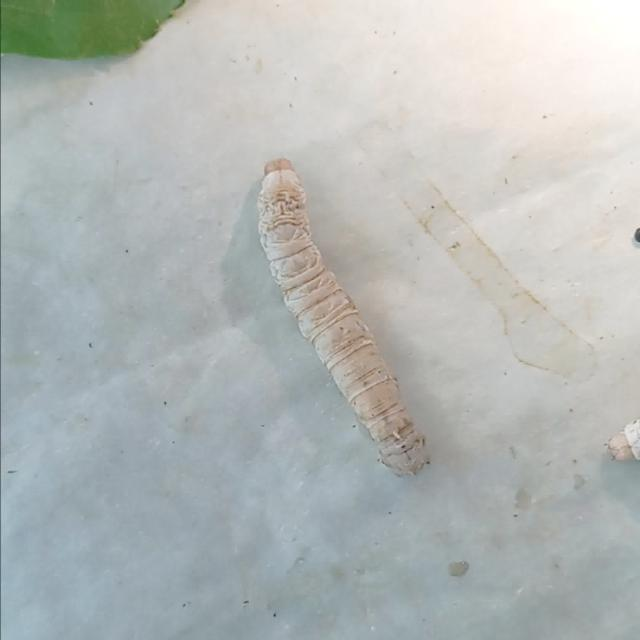Grasserie: (241, 135, 446, 484)
